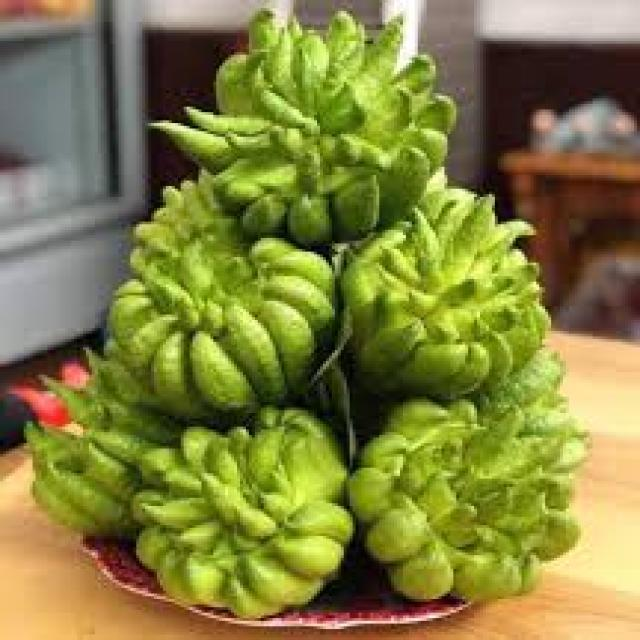PhatThu: (140, 11, 468, 249), (348, 341, 604, 608), (103, 176, 345, 419), (337, 179, 560, 400), (128, 405, 359, 614), (19, 348, 169, 541)
